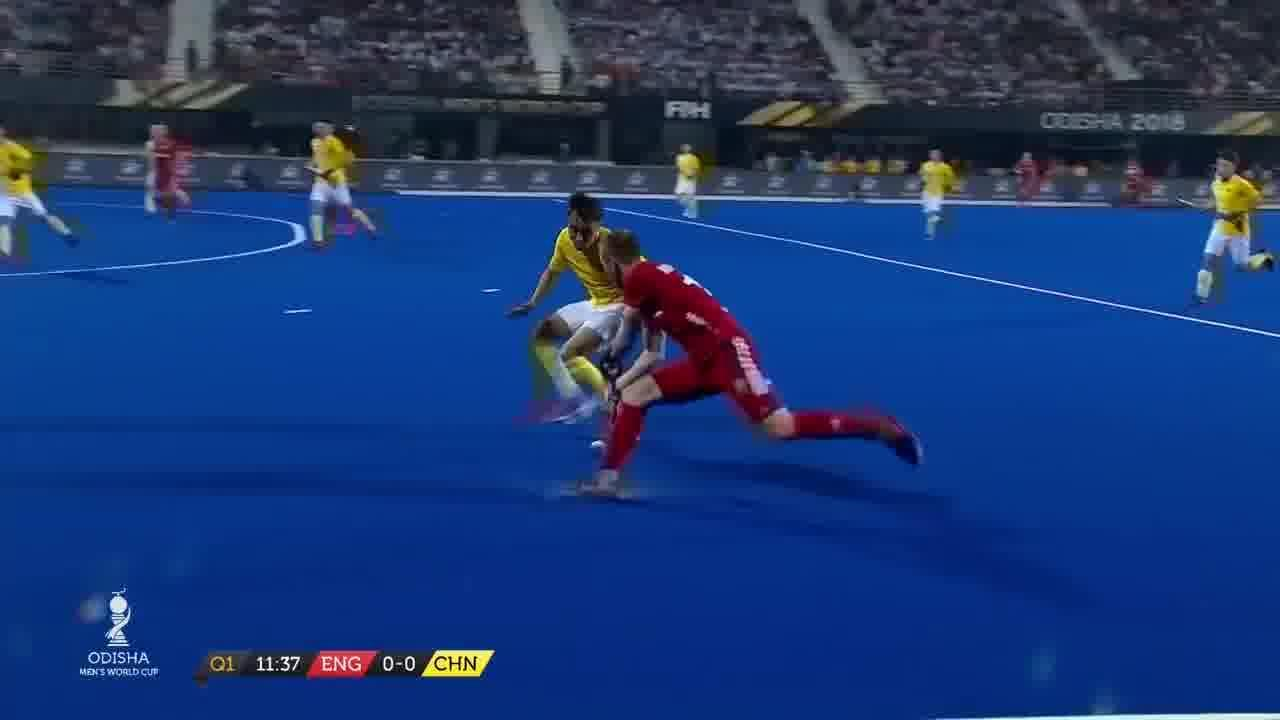ball: (572, 420, 612, 456)
